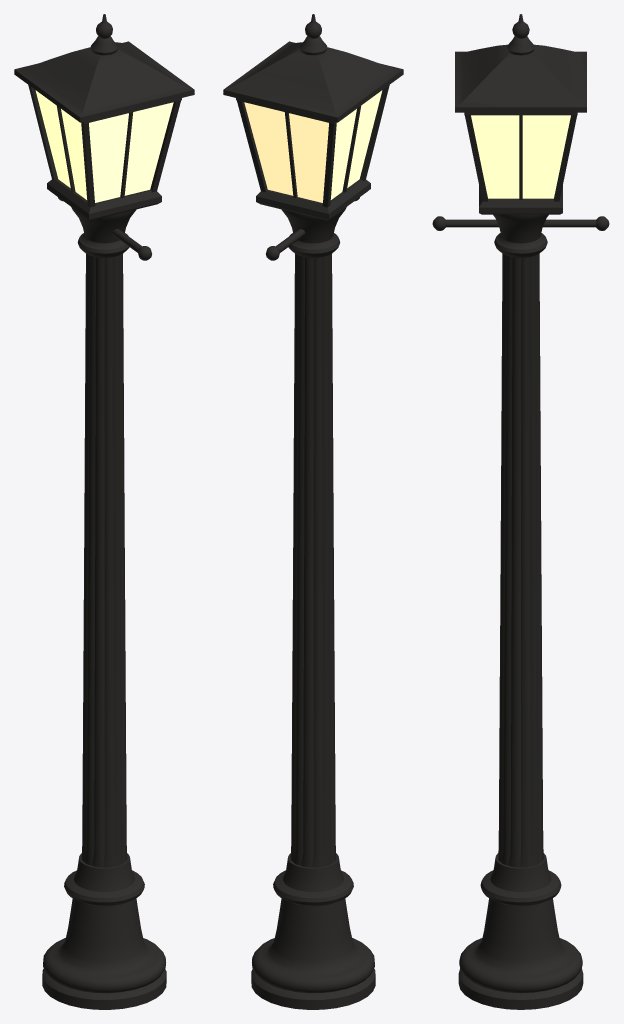
3 renders of one model, left to right at view 1: azimuth 30°, elevation 25°; view 2: azimuth 150°, elevation 25°; view 3: azimuth 270°, elevation 25°, orthographic.
Parts seen in each view (by area): view 1: Post_Iron, Lantern_Glow; view 2: Post_Iron, Lantern_Glow; view 3: Post_Iron, Lantern_Glow.
Part boxes in pixels (left/top/right/bottom): Post_Iron: left=14, top=14, right=194, bottom=1009; Lantern_Glow: left=35, top=90, right=173, bottom=202; Post_Iron: left=223, top=14, right=403, bottom=1009; Lantern_Glow: left=244, top=90, right=382, bottom=202; Post_Iron: left=432, top=14, right=609, bottom=1009; Lantern_Glow: left=471, top=115, right=570, bottom=198.
Size of the model in its own units: 0.424 by 3.43 by 0.568.
